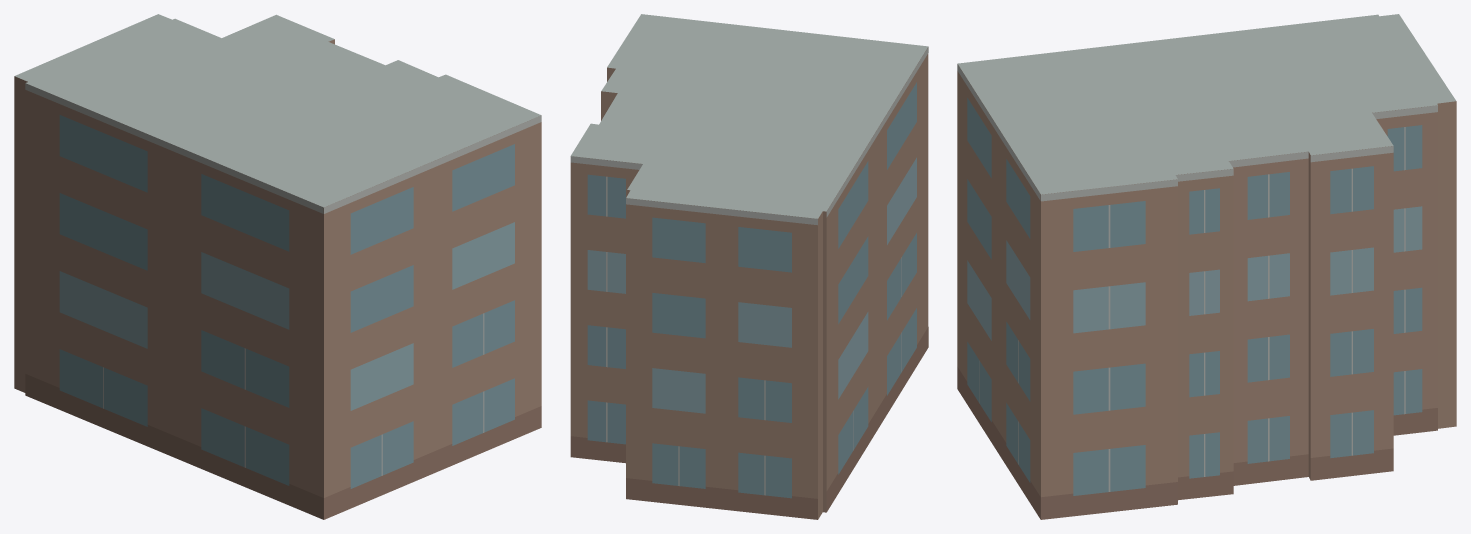
Rendered from survey-upis-32744243.glb.
3 renders of one model, left to right at view 1: azimuth 30°, elevation 25°; view 2: azimuth 150°, elevation 25°; view 3: azimuth 270°, elevation 25°, orthographic. The views are drawn at different scales.
Parts seen in each view (by area): view 1: survey-upis-32744243.tmp; view 2: survey-upis-32744243.tmp; view 3: survey-upis-32744243.tmp.
Boxes of the visible parts, x1,y1,x2,y2 form: survey-upis-32744243.tmp: (14,14,541,519); survey-upis-32744243.tmp: (570,14,928,519); survey-upis-32744243.tmp: (957,14,1456,519).
Bounding box in the file's own units: 13.67 × 11.48 × 15.97.
